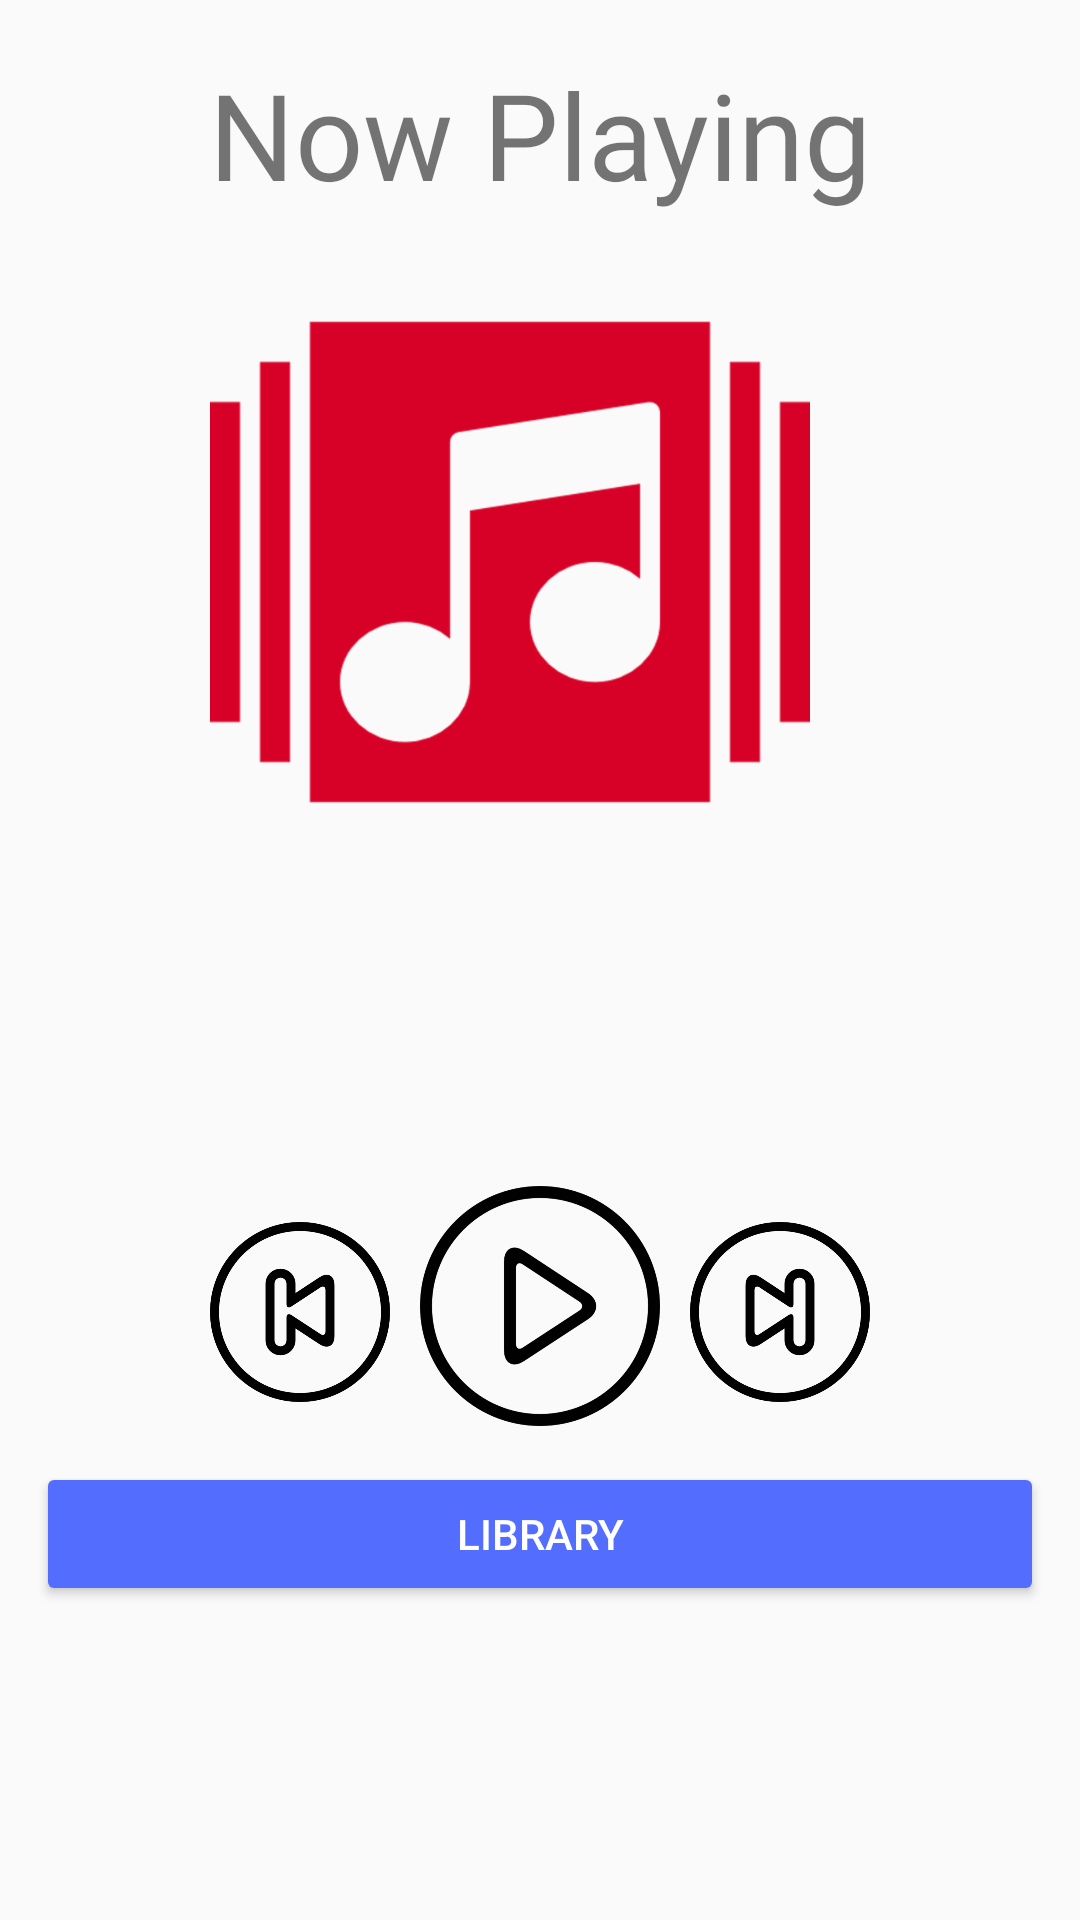

Icon bounding boxes for this 1080px x 1920px phone screenshot, format [x1, y1, x2, y2]:
back: [210, 1222, 390, 1402]
next: [690, 1222, 870, 1402]
play: [420, 1186, 660, 1426]
